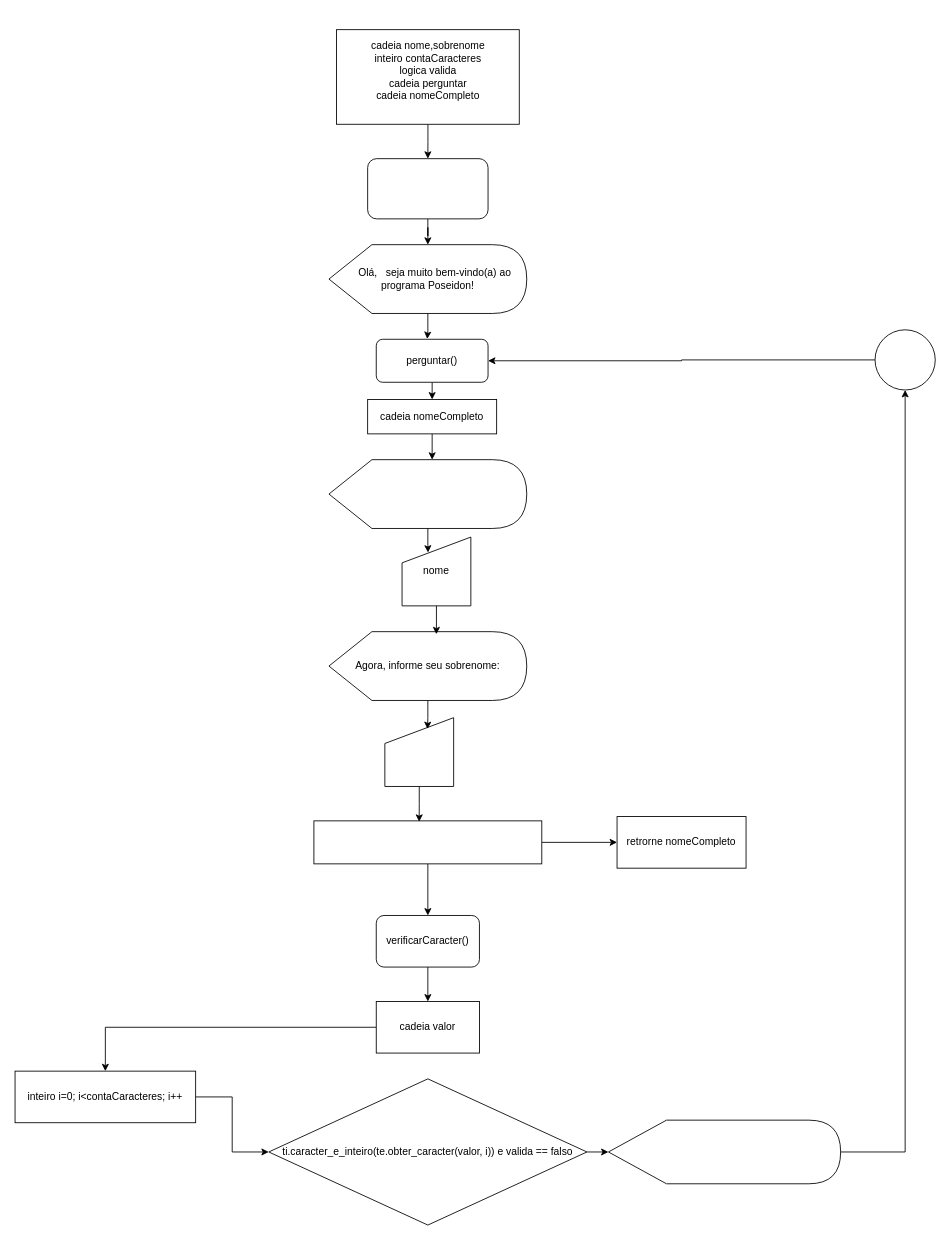
Image size: 950x1240. Some labels were removed from this diagram. Each missing label, with the centre of its shape:
Caracteres inválidos! Por favor, digite novamente.: the point at 724,1151
inicio: the point at 427,188
nomeCompleto = nome + " " + sobrenome: the point at 427,842
Programa Poseidon! Por favor, informe seu nome:: the point at 427,493
sobrenome: the point at 419,751
